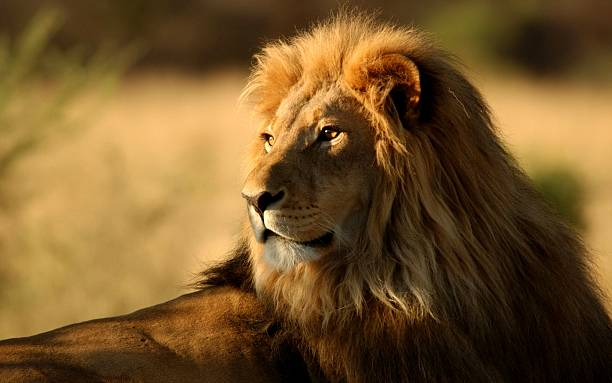lion: (193, 10, 604, 367)
